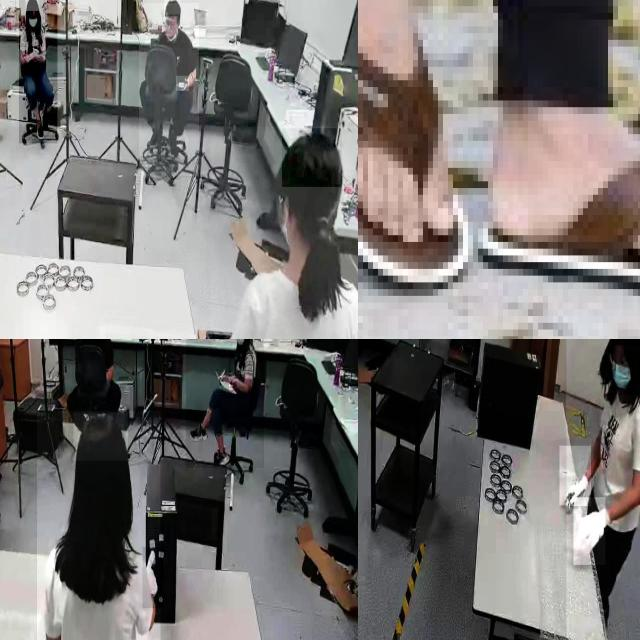Sandals: (358, 0, 474, 291), (476, 100, 640, 304)
face_mask: (608, 351, 634, 395), (25, 13, 41, 36), (232, 339, 248, 347)
face_nomask: (164, 16, 178, 37)
hand_glove: (574, 497, 606, 566), (559, 446, 591, 506), (142, 547, 164, 608)
hand_noglove: (176, 76, 190, 92), (229, 376, 239, 391)
head_nohelmet: (282, 128, 342, 188), (74, 412, 128, 462), (164, 0, 181, 15), (25, 0, 38, 11)
person: (210, 126, 358, 339), (37, 411, 161, 640), (566, 339, 640, 640), (139, 3, 199, 177), (185, 339, 264, 468), (19, 0, 58, 144), (66, 339, 123, 432)
shoes: (188, 420, 210, 446), (144, 118, 160, 152), (34, 116, 46, 142)
